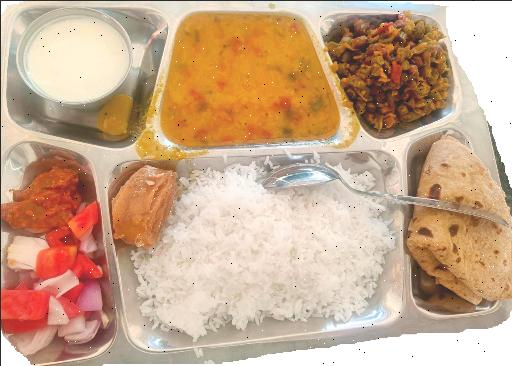Curd: (12, 6, 134, 107)
Dal: (175, 18, 309, 134)
Pickle: (0, 153, 72, 231)
Rice: (132, 160, 382, 326)
Roti: (408, 142, 511, 311)
Salad: (0, 237, 100, 338)
Sweet: (110, 165, 178, 248)
Vegetable: (345, 17, 450, 126)
